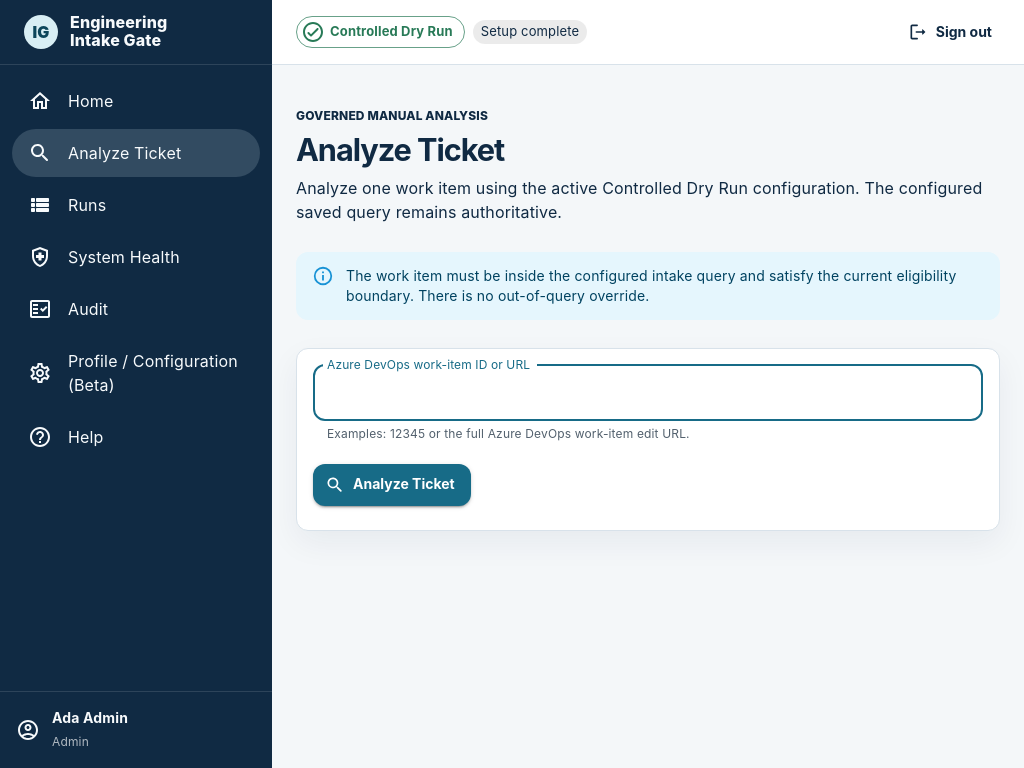
Scenario: OPS-UI-002 governed Analyze Ticket execution › rejects invalid input with an associated bounded form error
In the field labelled "Azure DevOps work-item ID or URL": coordinates (648, 393) [313, 365, 983, 421], type "not a ticket"
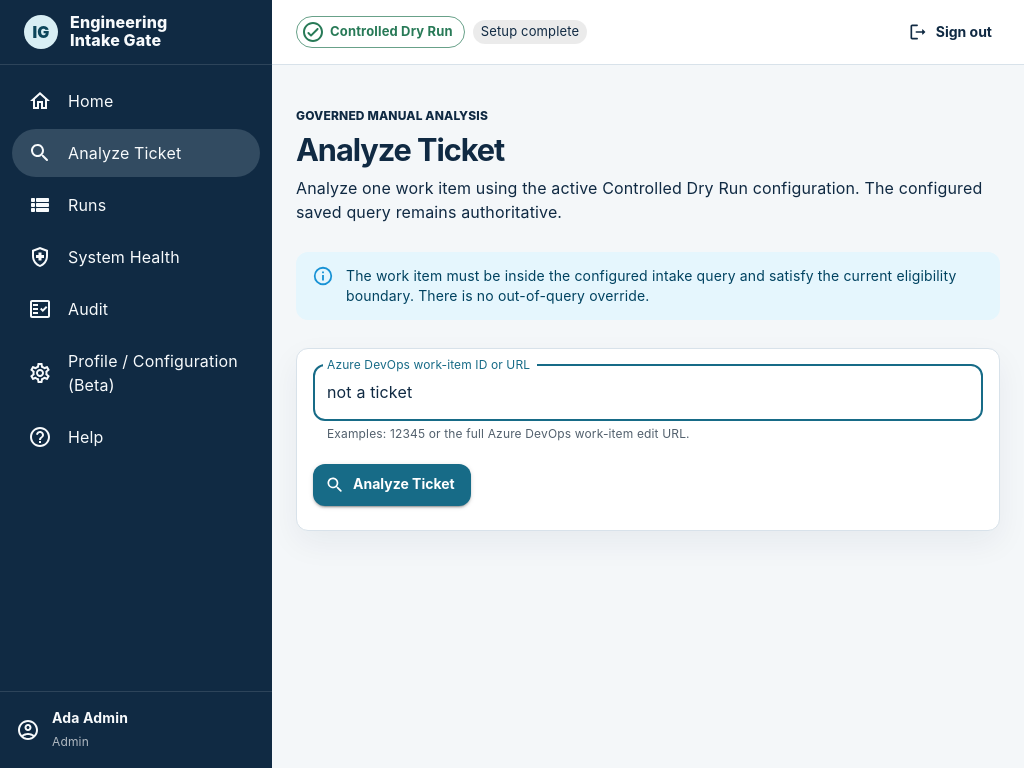
Click the button "Analyze Ticket": coordinates (392, 485) [313, 464, 471, 506]
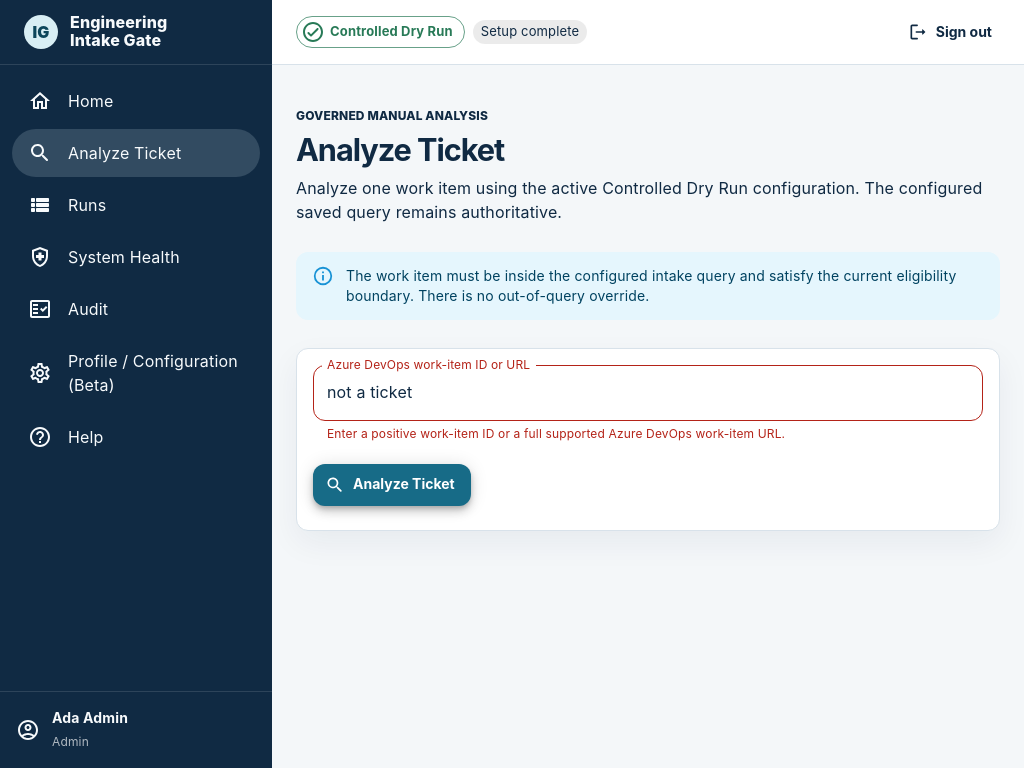
Expected: the text "Enter a positive work-item ID" is shown, [327, 426, 785, 441]
